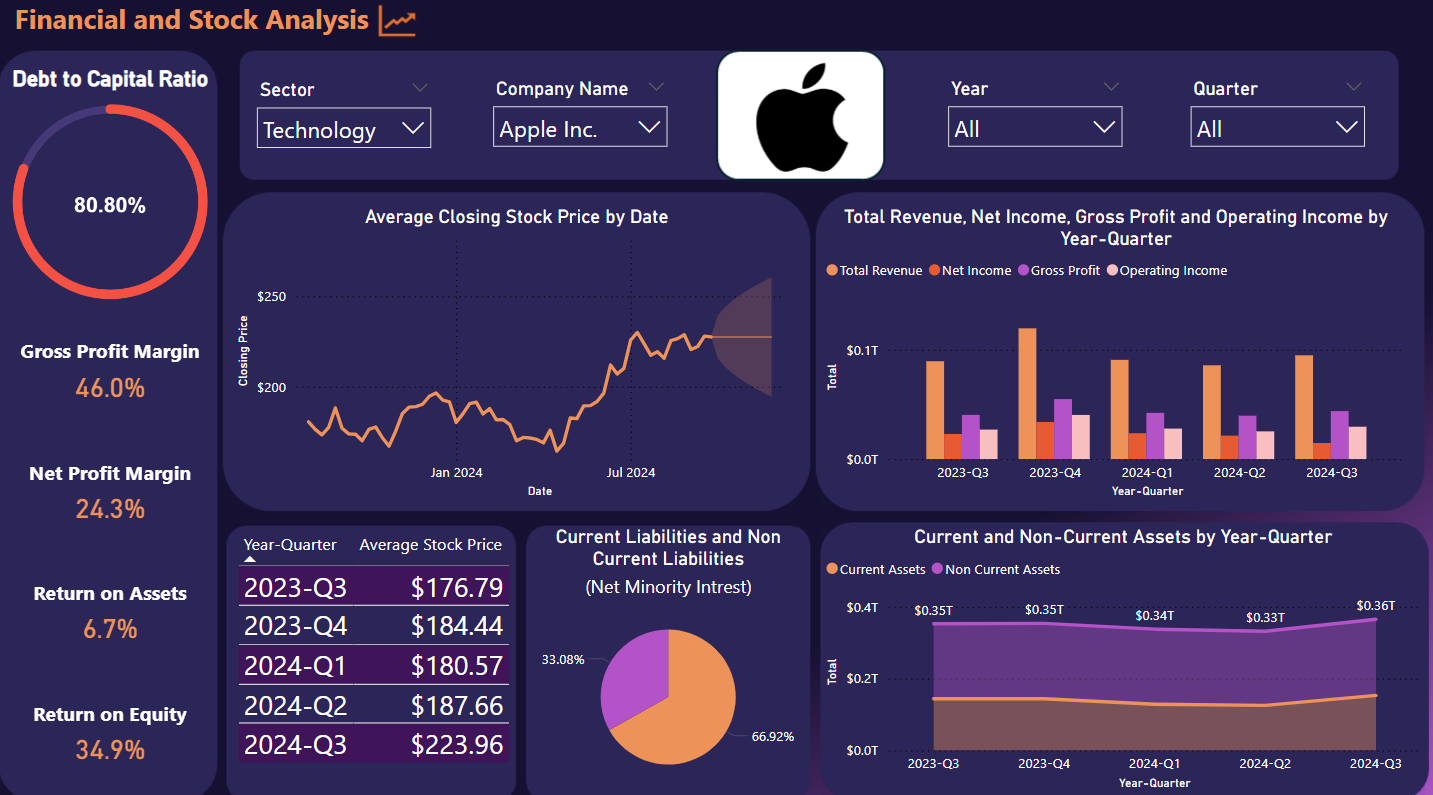

What the dashboard file says about the page in this screenshot:
{"tool":"powerbi","page":{"name":"Main","canvas":[1280,720],"ordinal":0},"visuals":[{"type":"slicer","fields":{"Values":["Financial_Data.Sector Hierarchy.Sector"]},"box":[219.6,68.7,175.5,78.5],"z":0},{"type":"slicer","fields":{"Values":["Calendar.Quarter"]},"box":[1051.1,68.4,175.4,78.4],"z":1000},{"type":"slicer","fields":{"Values":["Financial_Data.Sector Hierarchy.Company Name"]},"box":[429.8,68.4,175.4,78.4],"z":2000},{"type":"slicer","fields":{"Values":["Calendar.Year"]},"box":[835.3,68.4,175.4,78.4],"z":3000},{"type":"group","id":"g1","title":"Group 1","box":[639.5,50,150,116.3],"z":4000},{"type":"imageDB603108E3FF4EBFB8047F5653368E8C","fields":{"imageUrl":["Sheet1.URL"]},"box":[639.5,50,149.3,116.6],"z":4000,"group":"g1"},{"type":"textbox","box":[8.6,0,341.1,42.9],"z":5000},{"type":"payPalKPIDonutChart55A431AB15A540ED924ACD72ED8D259F","fields":{"myvalue":["Financial_Data.Debt to Capital Ratio"]},"box":[0,63.1,198.3,220.4],"z":6000,"group":"g2"},{"type":"lineChart","title":"Average Closing Stock Price by Date","fields":{"Y":["Avg(Stock_Data.Close)"],"Category":["Stock_Data.Date"]},"box":[207,187.2,508.1,266.3],"z":6000},{"type":"cardVisual","fields":{"Data":["Financial_Data.Gross Profit Margin"]},"box":[0,276.8,198.8,114.2],"z":7000,"group":"g2"},{"type":"stackedAreaChart","title":"Current and Non-Current Assets by Year-Quarter","fields":{"Category":["Calendar.Year-Quarter"],"Y":["Sum(Financial_Data.Current Assets)","Sum(Financial_Data.Total Non Current Assets)"]},"box":[731.4,472.1,539.5,240.7],"z":7000},{"type":"clusteredColumnChart","fields":{"Category":["Calendar.Year-Quarter"],"Y":["Sum(Financial_Data.Total Revenue)","Sum(Financial_Data.Net Income)","Sum(Financial_Data.Gross Profit)","Sum(Financial_Data.Operating Income)"]},"box":[731.4,187.2,526.7,266.3],"z":8000},{"type":"cardVisual","fields":{"Data":["Financial_Data.Net Profit Margin"]},"box":[0,384.4,198.6,113.9],"z":8000,"group":"g2"},{"type":"tableEx","fields":{"Values":["Calendar.Year-Quarter","Avg(Stock_Data.Close)"]},"box":[207,472.1,252.3,240.7],"z":9000},{"type":"cardVisual","fields":{"Data":["Financial_Data.Return on Assets (ROA)"]},"box":[0,491.6,198.6,114.2],"z":9000,"group":"g2"},{"type":"pieChart","title":"Current Liabilities and  Non Current Liabilities","fields":{"Y":["Sum(Financial_Data.Total Liabilities Net Minority Interest)","Sum(Financial_Data.Total Non Current Liabilities Net Minority Interest)"]},"box":[477.9,472.1,237.2,240.7],"z":10000},{"type":"cardVisual","fields":{"Data":["Financial_Data.Return on Equity (ROE)"]},"box":[0,599.2,198.6,113.9],"z":10000,"group":"g2"},{"type":"group","id":"g2","title":"Group 2","box":[0,63.1,198.8,650],"z":11000}]}

Visuals, with their boxes in screenshot pixels (x1, y1, x2, y2), scaled from the page's 1280x720 canvas onto the 1433x795 screenshot:
slicer - Financial_Data.Sector Hierarchy.Sector: (x1=246, y1=76, x2=442, y2=163)
slicer - Calendar.Quarter: (x1=1177, y1=76, x2=1373, y2=162)
slicer - Financial_Data.Sector Hierarchy.Company Name: (x1=481, y1=76, x2=678, y2=162)
slicer - Calendar.Year: (x1=935, y1=76, x2=1132, y2=162)
"Group 1" group: (x1=716, y1=55, x2=884, y2=184)
imageDB603108E3FF4EBFB8047F5653368E8C - Sheet1.URL: (x1=716, y1=55, x2=883, y2=184)
textbox: (x1=10, y1=0, x2=392, y2=47)
payPalKPIDonutChart55A431AB15A540ED924ACD72ED8D259F - Financial_Data.Debt to Capital Ratio: (x1=0, y1=70, x2=222, y2=313)
"Average Closing Stock Price by Date" lineChart: (x1=232, y1=207, x2=801, y2=501)
cardVisual - Financial_Data.Gross Profit Margin: (x1=0, y1=306, x2=223, y2=432)
"Current and Non-Current Assets by Year-Quarter" stackedAreaChart: (x1=819, y1=521, x2=1423, y2=787)
clusteredColumnChart - Calendar.Year-Quarter x Sum(Financial_Data.Total Revenue): (x1=819, y1=207, x2=1408, y2=501)
cardVisual - Financial_Data.Net Profit Margin: (x1=0, y1=424, x2=222, y2=550)
tableEx - Calendar.Year-Quarter x Avg(Stock_Data.Close): (x1=232, y1=521, x2=514, y2=787)
cardVisual - Financial_Data.Return on Assets (ROA): (x1=0, y1=543, x2=222, y2=669)
"Current Liabilities and  Non Current Liabilities" pieChart: (x1=535, y1=521, x2=801, y2=787)
cardVisual - Financial_Data.Return on Equity (ROE): (x1=0, y1=662, x2=222, y2=787)
"Group 2" group: (x1=0, y1=70, x2=223, y2=787)
